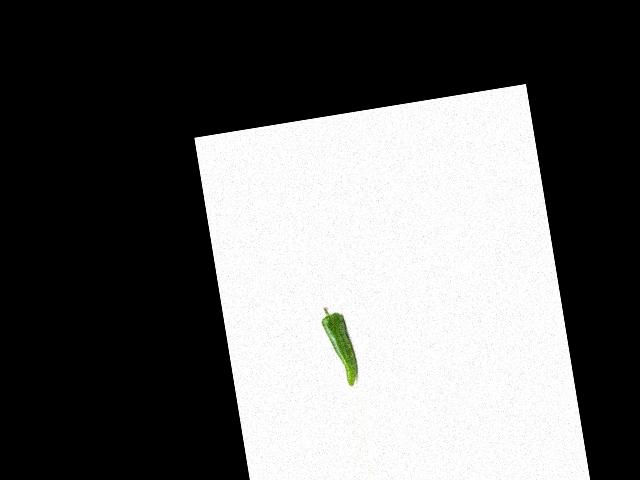bell_pepper: (317, 300, 362, 390)
